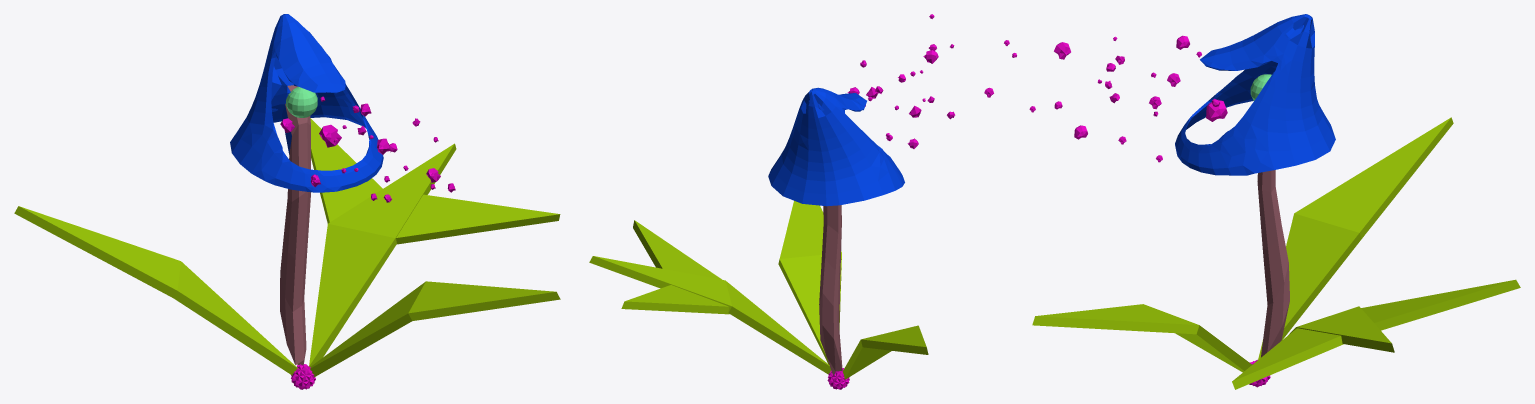
Rendered from plant_04_sporenpilz_state01.gltf.
3 renders of one model, left to right at view 1: azimuth 30°, elevation 25°; view 2: azimuth 150°, elevation 25°; view 3: azimuth 270°, elevation 25°, orthographic. The views are drawn at different scales.
Visible parts, largest first — view 1: Plane, Sphere.001, Icosphere; view 2: Plane, Sphere.001; view 3: Plane, Sphere.001.
Boxes of the visible parts, box(x1,y1,x2,y2) form: Plane: box(14, 14, 560, 377); Sphere.001: box(280, 96, 455, 202); Icosphere: box(291, 364, 315, 389); Plane: box(589, 87, 928, 379); Sphere.001: box(847, 14, 955, 148); Plane: box(1032, 14, 1520, 389); Sphere.001: box(984, 35, 1227, 162).
Bounding box in the file's own units: 0.3125 × 0.2413 × 0.3139.
